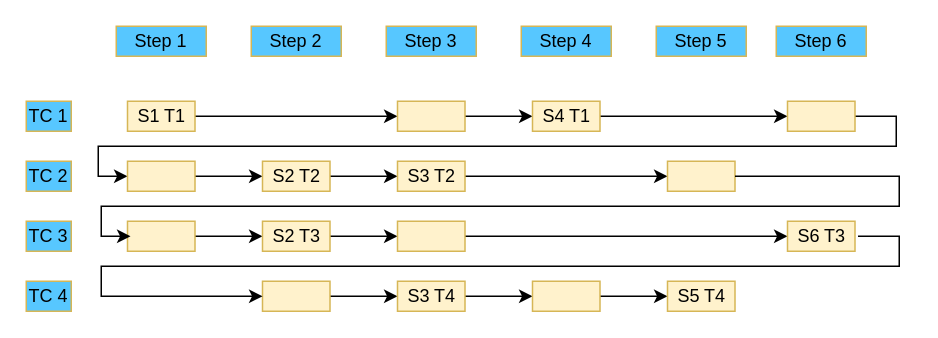
Image size: 938x338. Some labels were removed from this diagram. The centre of each missing label's shape, as x and y in pixels:
"S1 T2" goes at point (160, 175).
"S1 T3" goes at point (160, 235).
"S2 T4" goes at point (295, 295).
"S3 T1" goes at point (430, 115).
"S3 T3" goes at point (430, 235).
"S4 T4" goes at point (565, 295).
"S5 T2" goes at point (700, 175).
"S6 T1" goes at point (820, 115).
